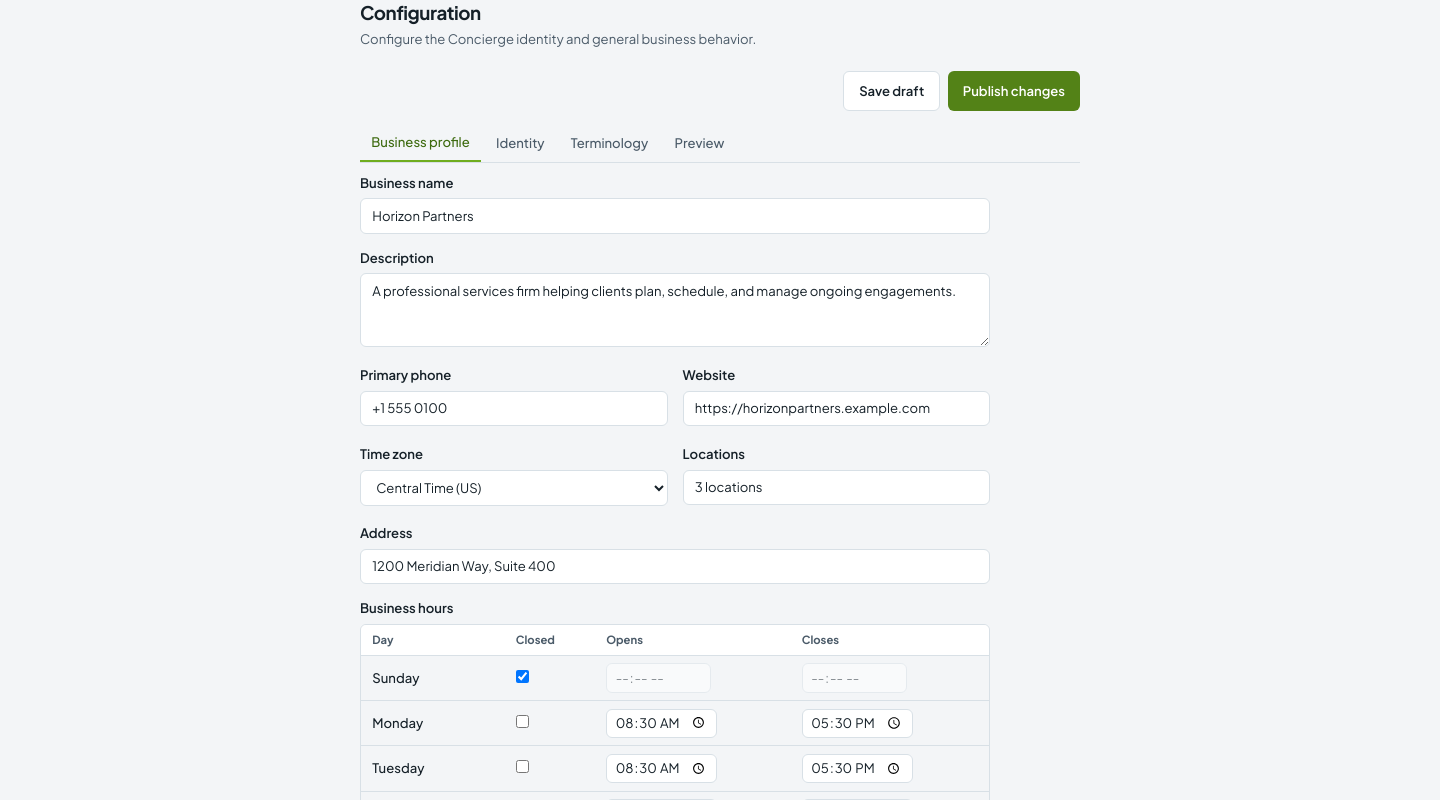
Test: ConfigurationPage › publishes only after confirming, and never on Save draft alone
This screenshot has width=1440, height=800.
Check: the field showing "Horizon Partners" is shown, box [360, 198, 990, 234]
What coordinates should you click on to do the following:
click the button "Publish changes"
I would click on:
 (1014, 91)
Its box is [948, 71, 1080, 111].
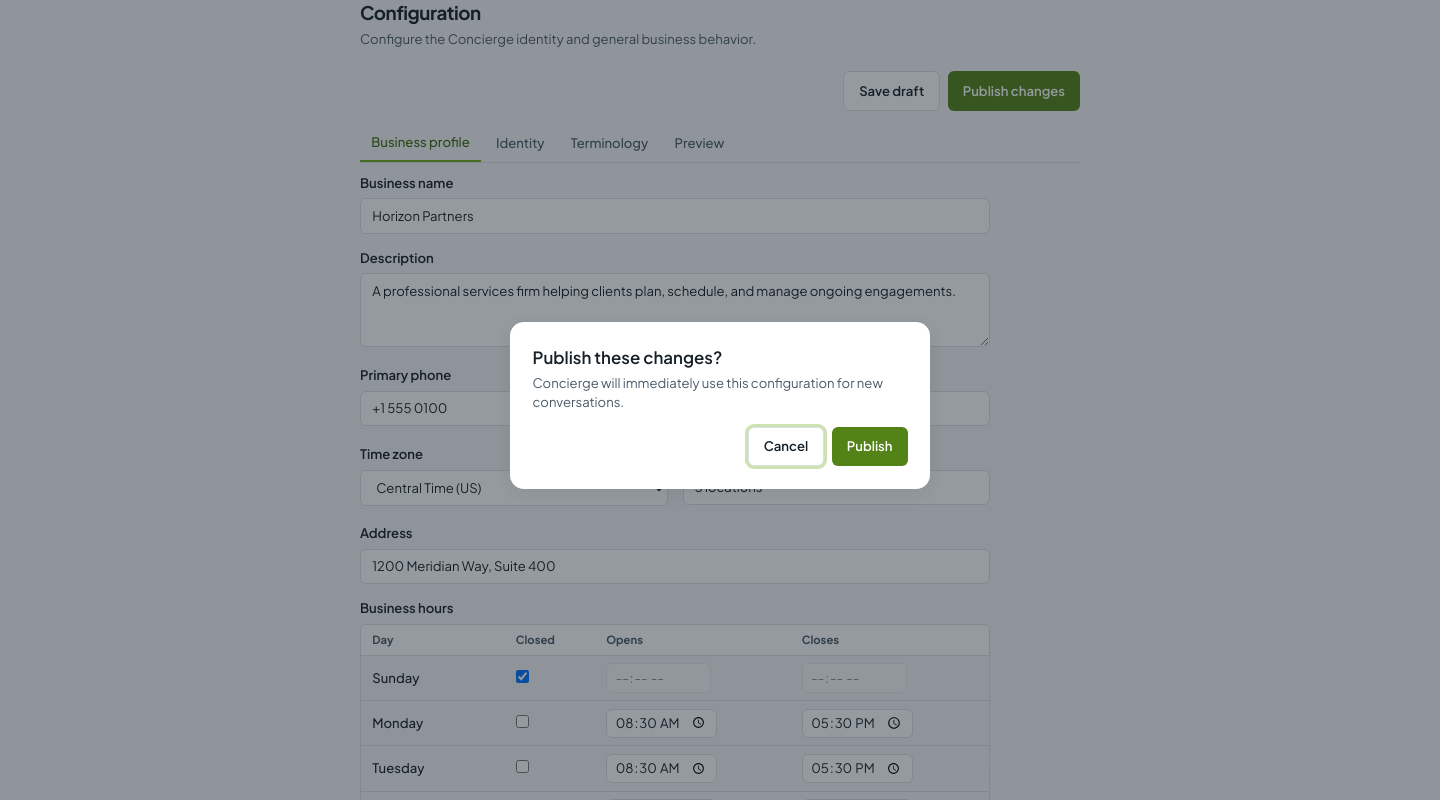
What coordinates should you click on to do the following:
click the button "Cancel"
I would click on:
 (786, 446)
Its box is [748, 426, 824, 466].
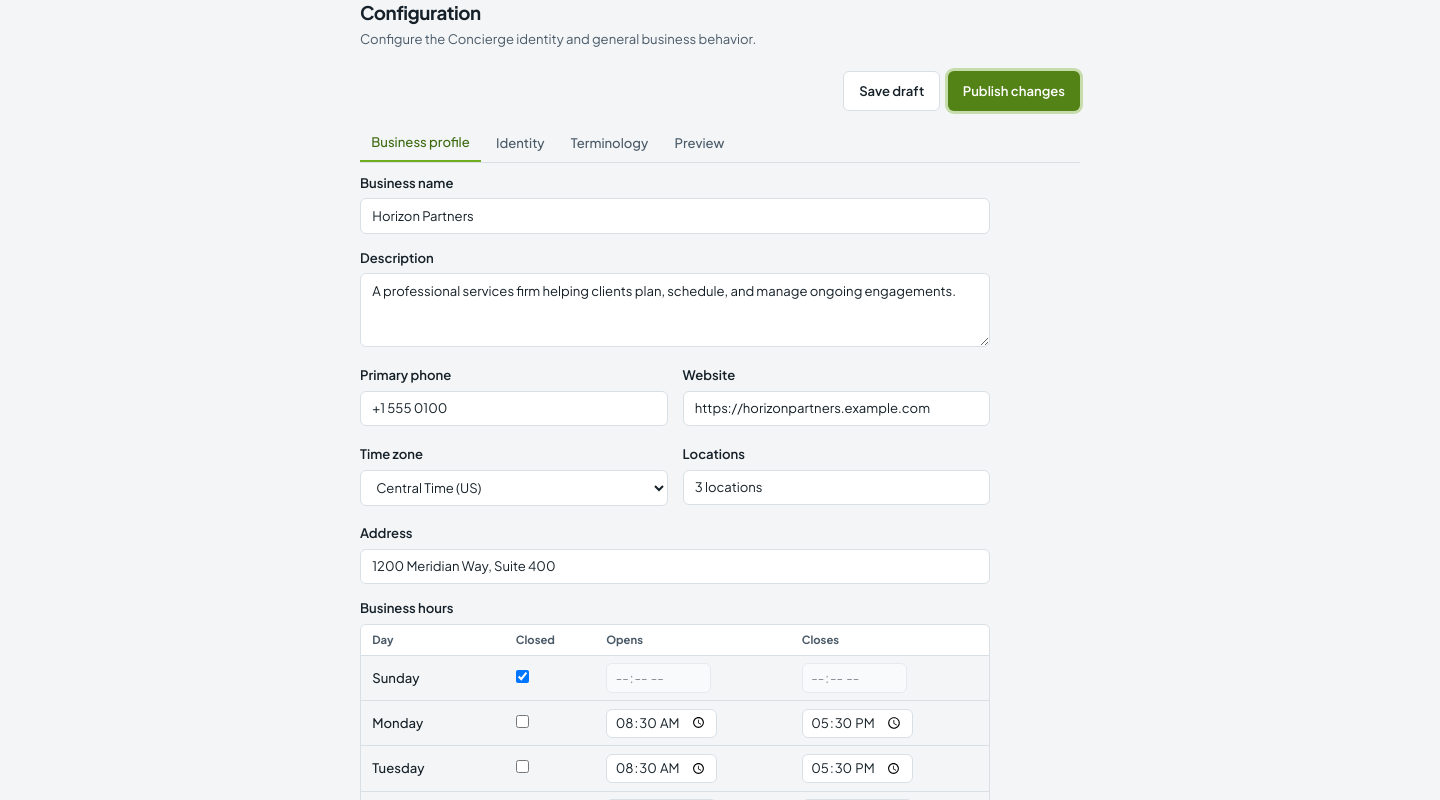
What coordinates should you click on to do the following:
click the button "Publish changes"
I would click on:
 (1014, 91)
Its box is [948, 71, 1080, 111].
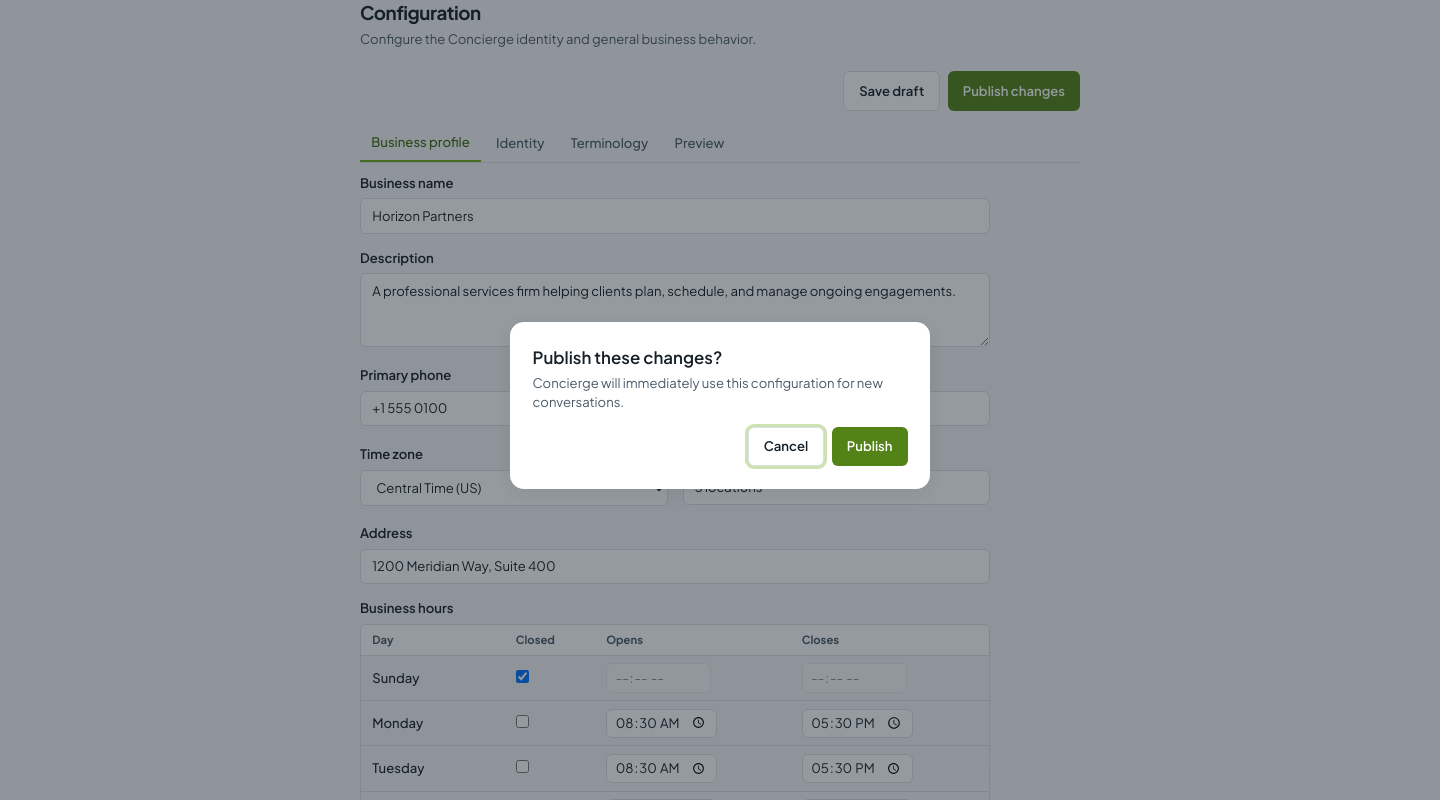
What coordinates should you click on to do the following:
click the button "Publish"
I would click on:
 (870, 446)
Its box is [832, 426, 908, 466].
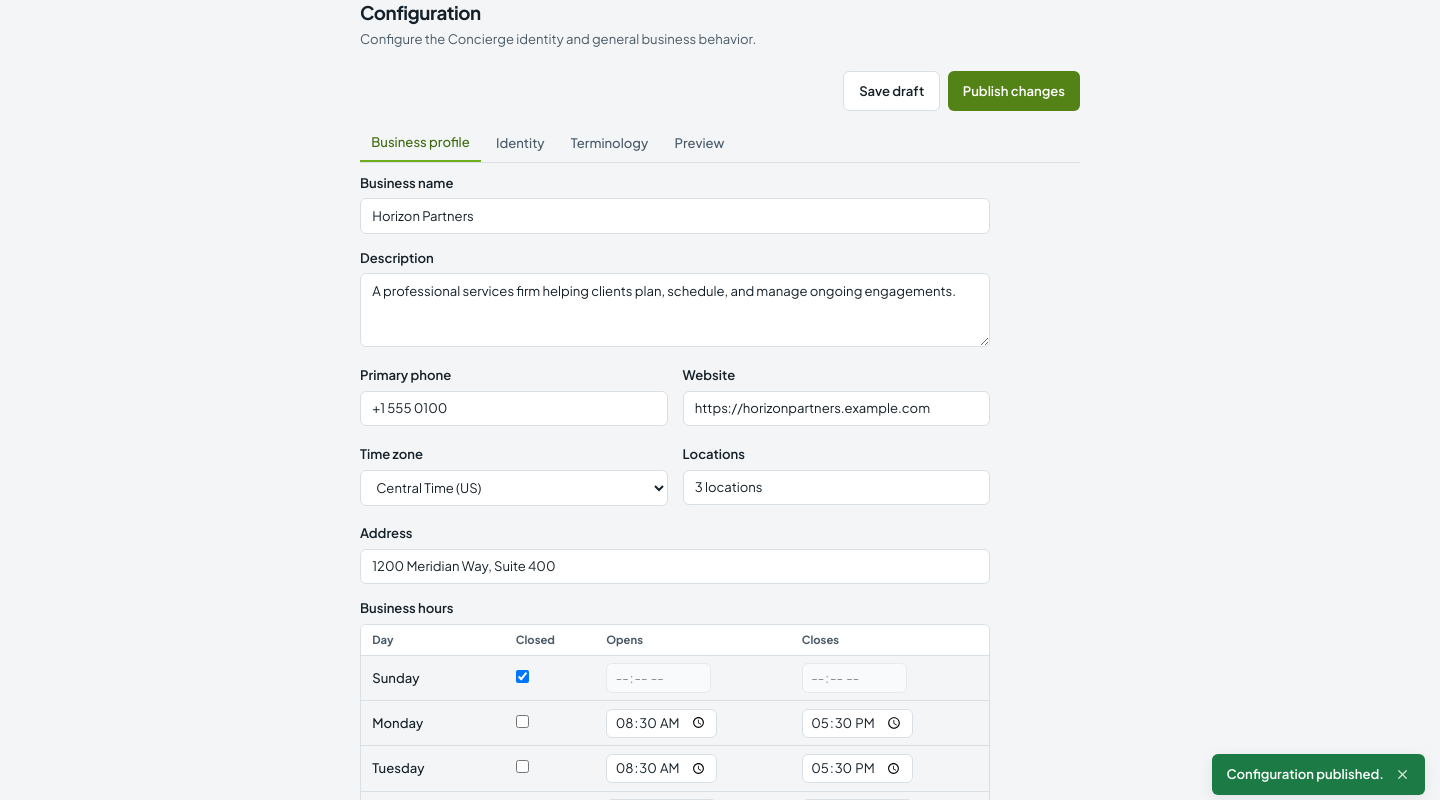
Check: the text "Configuration published." is shown, box [1226, 765, 1384, 784]
